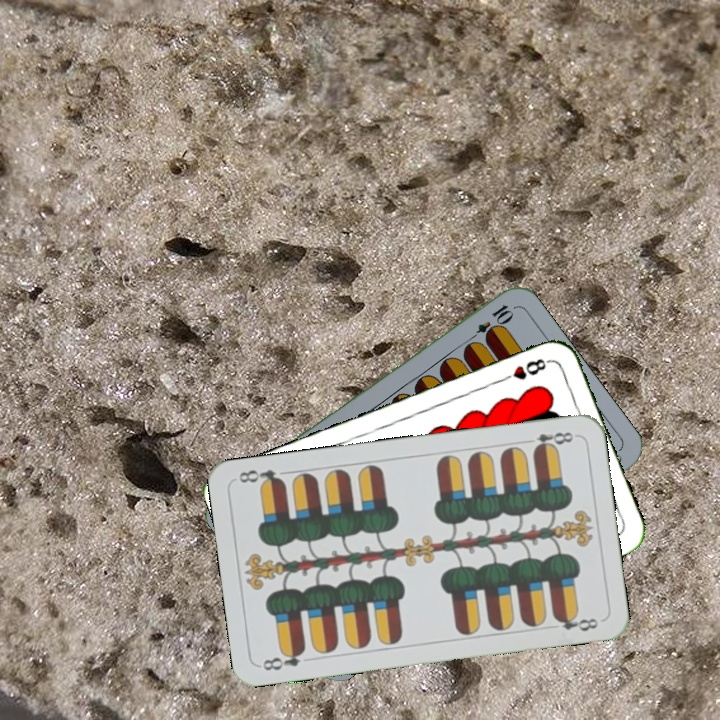E10: (463, 300, 516, 346)
E8: (520, 428, 576, 454), (259, 644, 308, 673)
H8: (496, 354, 553, 385)
